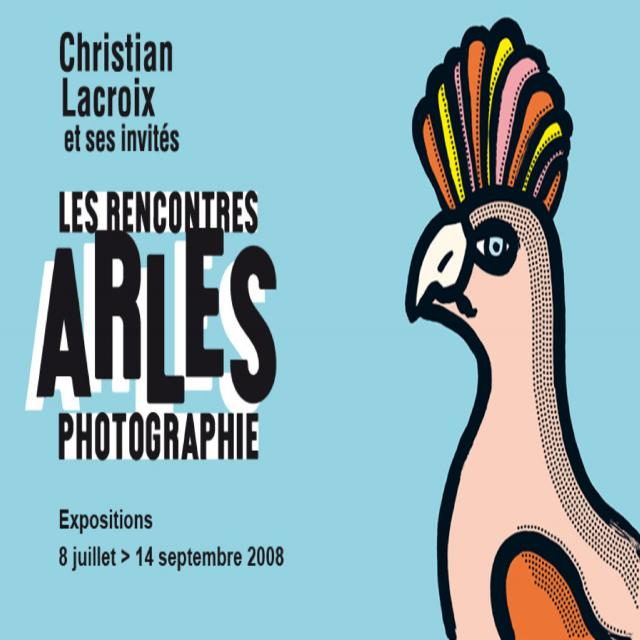Chicken: (405, 0, 640, 632)
